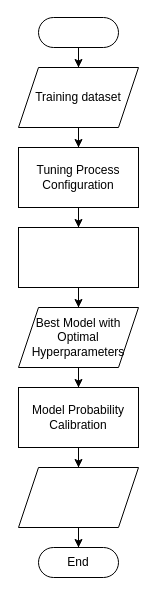
The diagram is 156 pixels wide and 595 high, and some of its shapes have lost their labels. Here are the shapes that lost their labels. From the top down, the box of each, then its label:
(38, 16, 118, 48): Start
(18, 226, 138, 288): Hyperparameter Search with RandomizedSearchCV
(18, 466, 138, 528): Final Calibrated LightGBM Model
